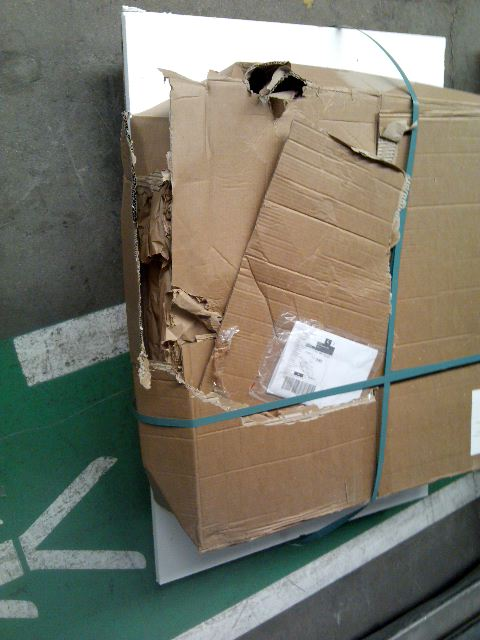label: (266, 320, 384, 410)
package: (120, 59, 480, 556)
